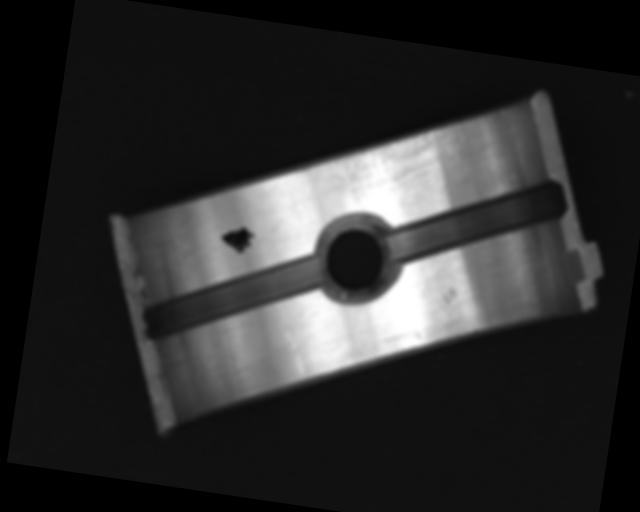blot: (217, 222, 258, 257)
bruise: (438, 284, 459, 306)
gap: (140, 233, 323, 361), (386, 158, 569, 281)
hole: (313, 207, 402, 308)
nick: (271, 318, 311, 375)
scratch: (310, 102, 463, 215)
